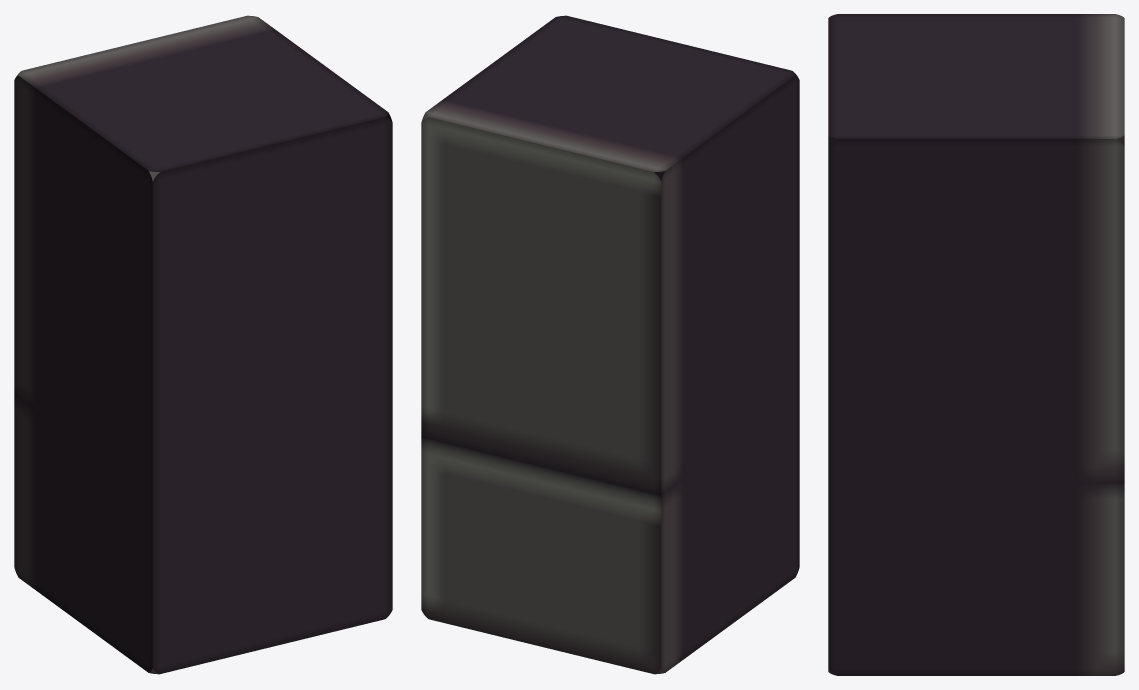
The model's file is fridge.fbx.
3 renders of one model, left to right at view 1: azimuth 30°, elevation 25°; view 2: azimuth 150°, elevation 25°; view 3: azimuth 270°, elevation 25°, orthographic. The views are drawn at different scales.
Parts seen in each view (by area): view 1: fridge; view 2: fridge; view 3: fridge.
Part boxes in pixels (x1,y1,x2,y2): fridge: (14,15,392,674); fridge: (421,15,799,674); fridge: (828,14,1124,675).
Size of the model in its own units: 150 by 300 by 150.
